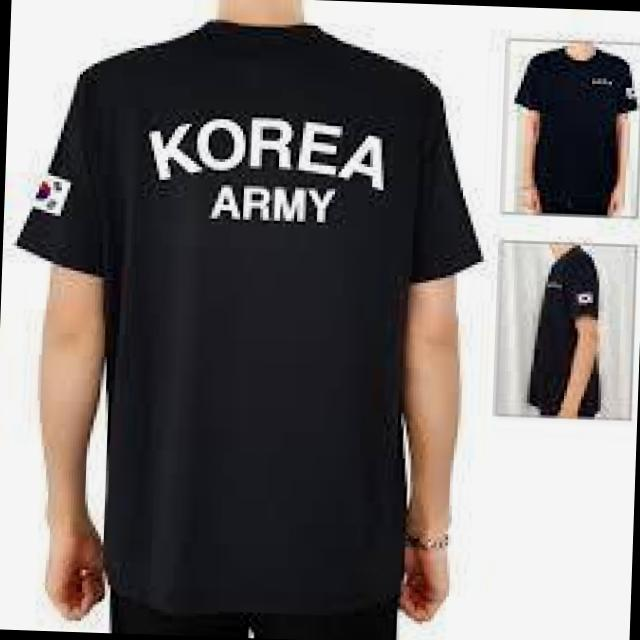Tshirt: (5, 17, 492, 616), (509, 48, 640, 200), (520, 245, 614, 410)
